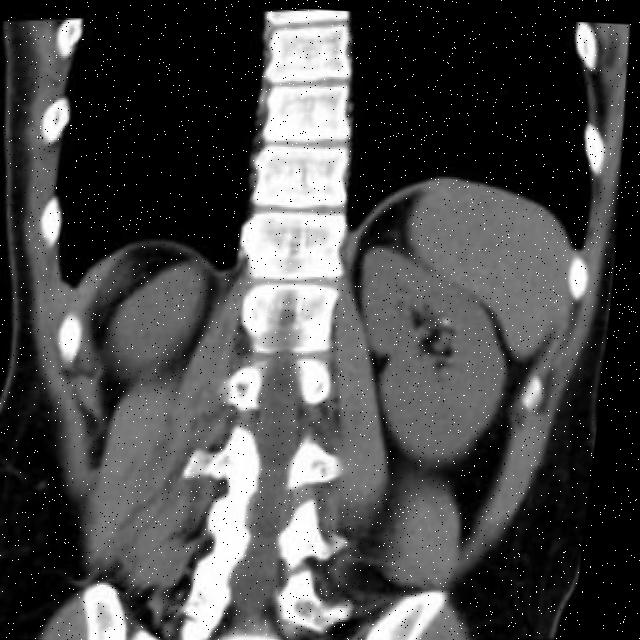Tas_Var: (444, 310, 460, 327)
